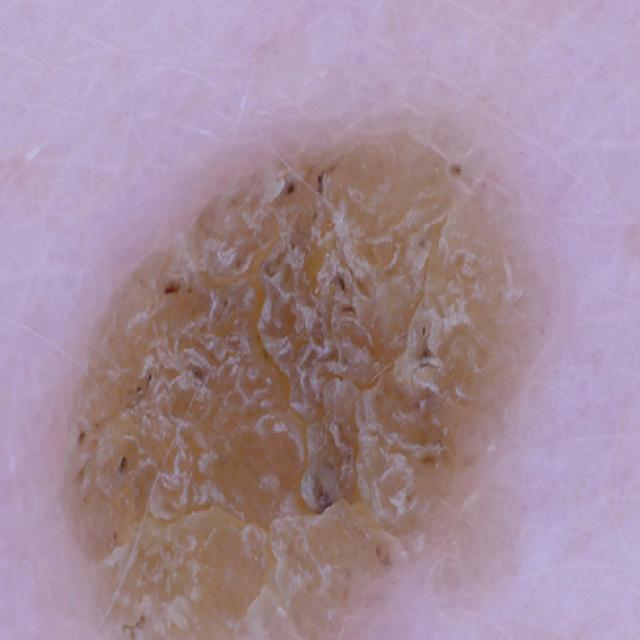Keratosis: (36, 72, 557, 640)
